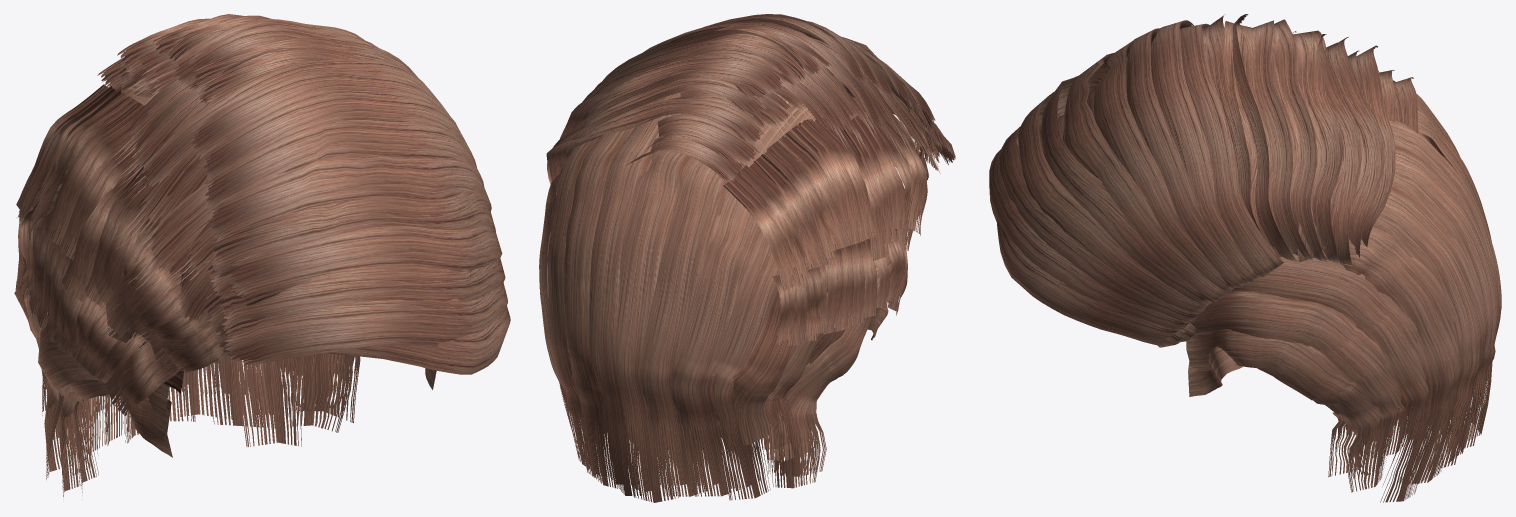
Rendered from mh_elvs_grump_hair.glb.
3 renders of one model, left to right at view 1: azimuth 30°, elevation 25°; view 2: azimuth 150°, elevation 25°; view 3: azimuth 270°, elevation 25°, orthographic. The views are drawn at different scales.
Visible parts, largest first — view 1: mh_elvs_grump_hair; view 2: mh_elvs_grump_hair; view 3: mh_elvs_grump_hair.
Part boxes in pixels (bbox=[...]): mh_elvs_grump_hair: bbox=[14, 14, 510, 496]; mh_elvs_grump_hair: bbox=[539, 14, 955, 502]; mh_elvs_grump_hair: bbox=[989, 14, 1501, 502].
Size of the model in its own units: 0.192 by 0.2395 by 0.2582.
Materials: 1 (1 with a texture image).
